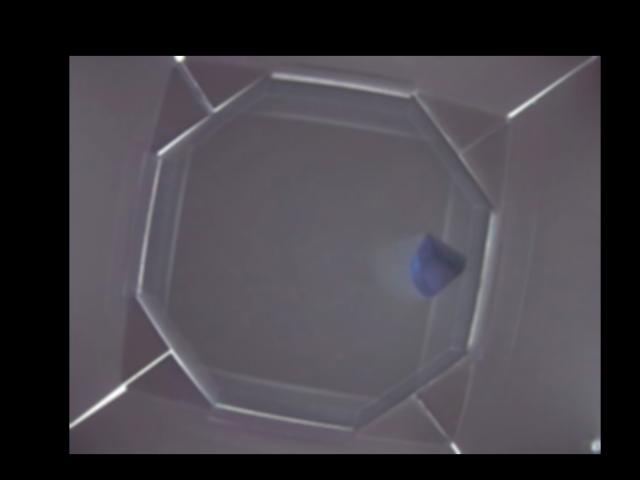Mooli: (408, 234, 465, 299)
